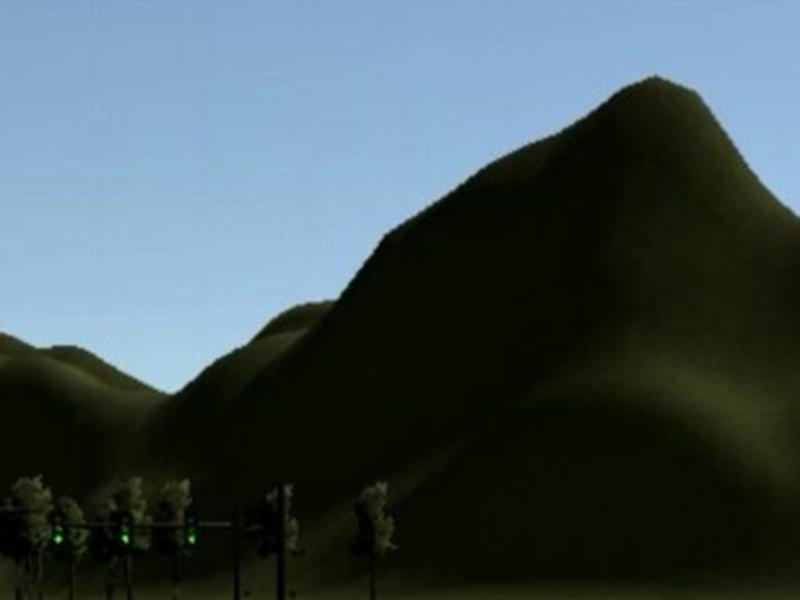Green: (117, 513, 132, 547), (52, 513, 66, 547), (184, 516, 198, 545)
